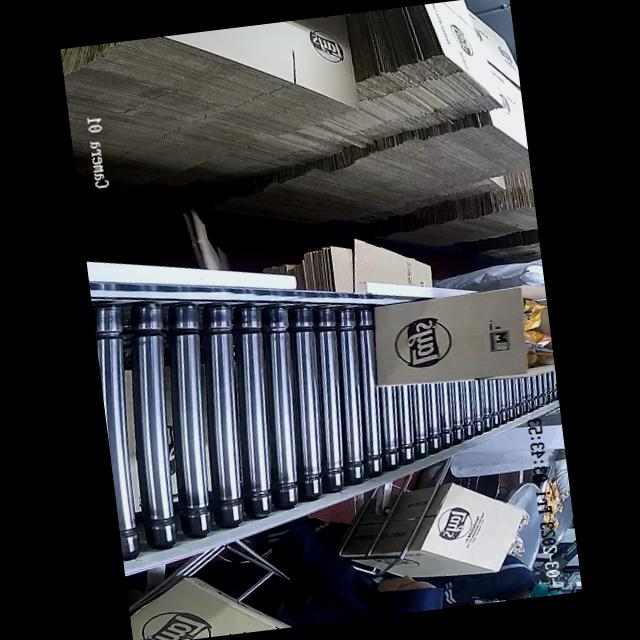cheese: (518, 292, 552, 362)
